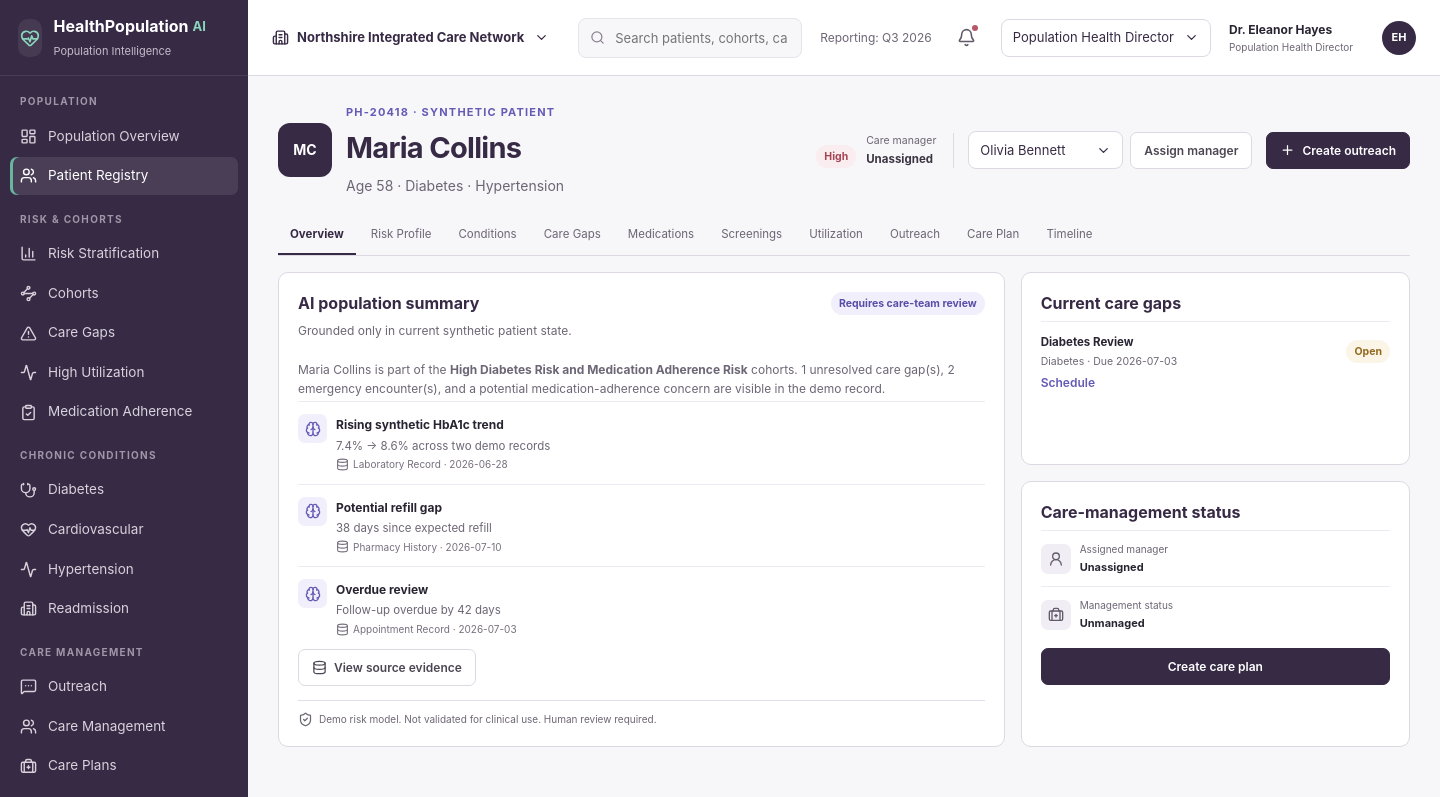
Test: route-level product QA › focuses and closes patient outreach modal with Escape
Click the button "Create outreach": {"x": 1338, "y": 150} [1266,132,1410,169]
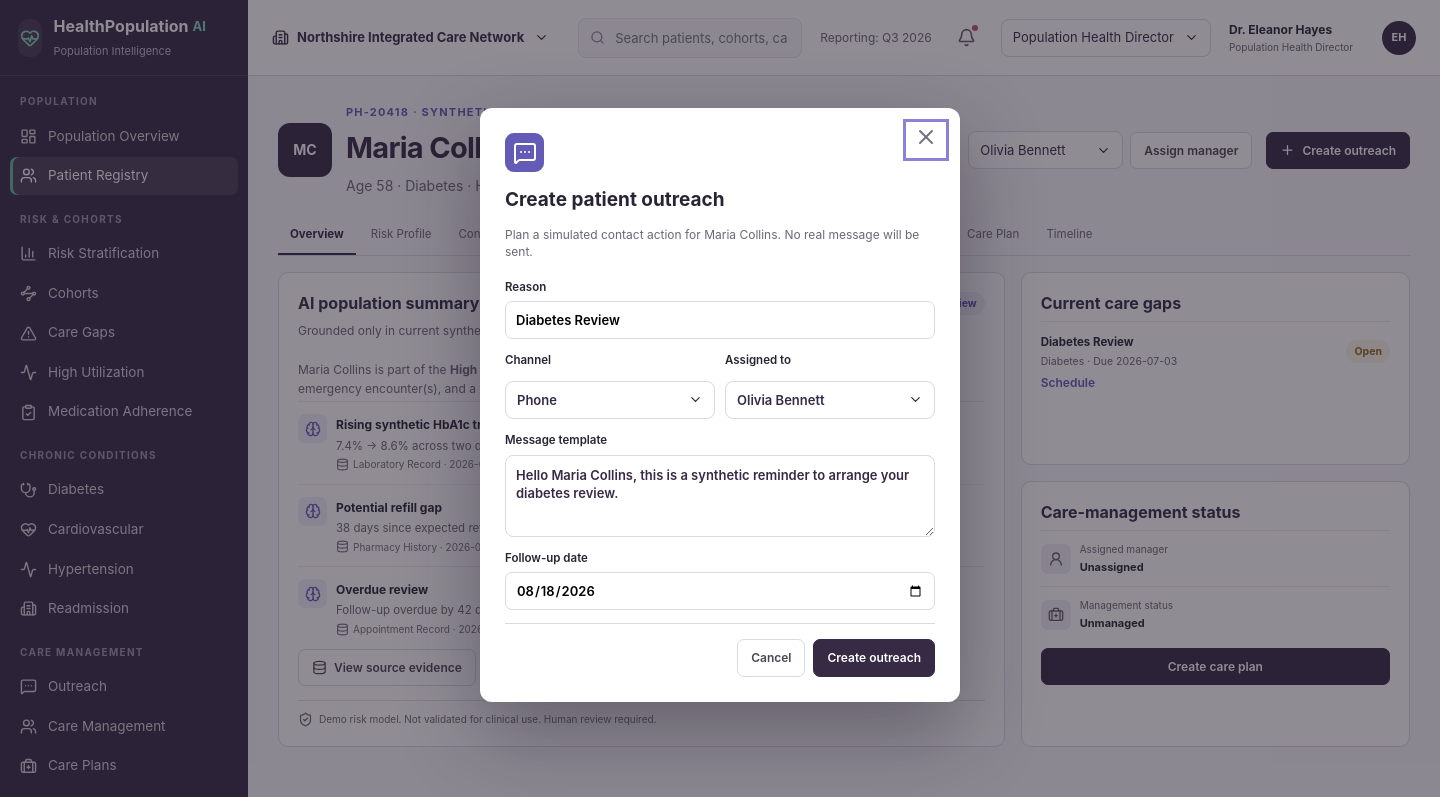
Press Escape
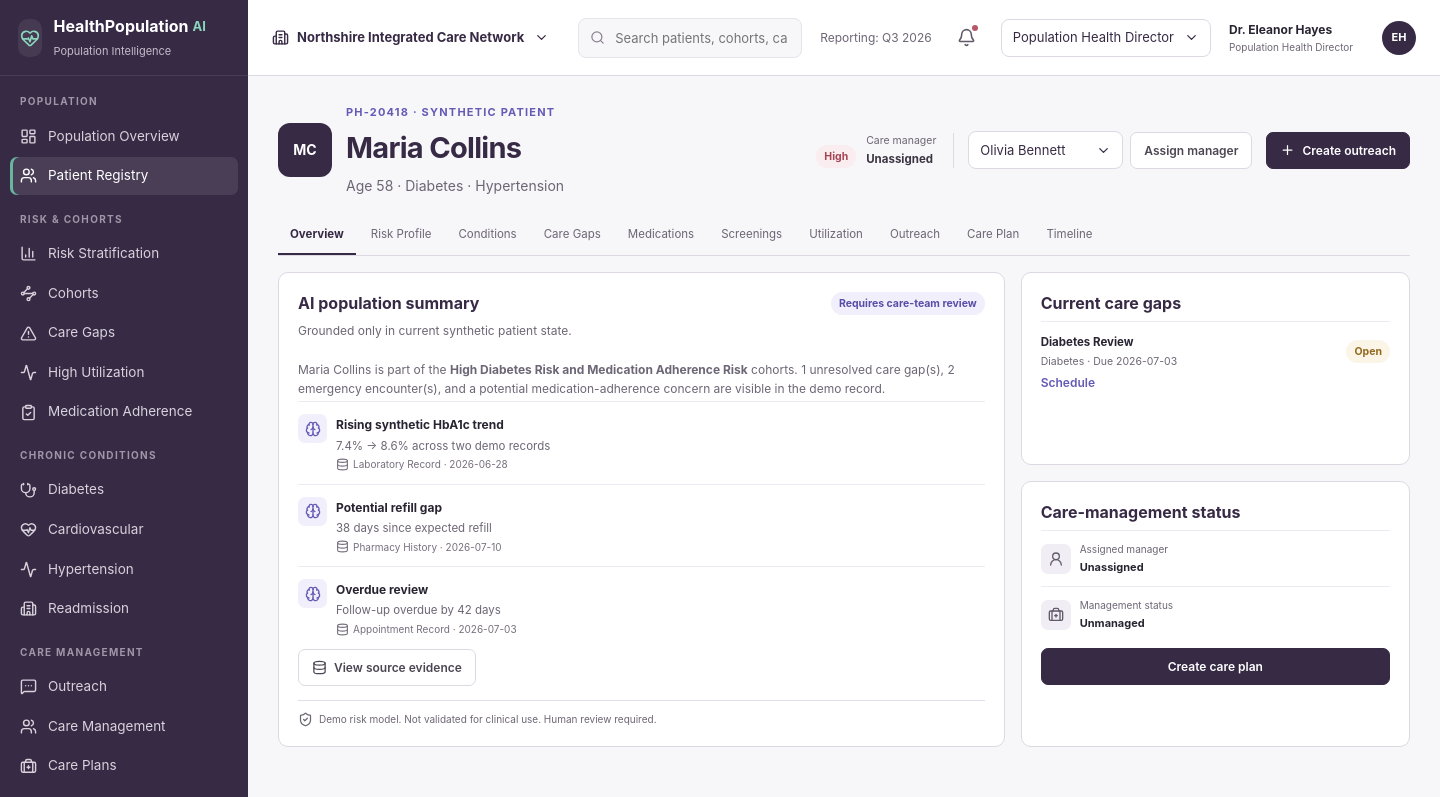
expect the heading "Create patient outreach" is gone: met
